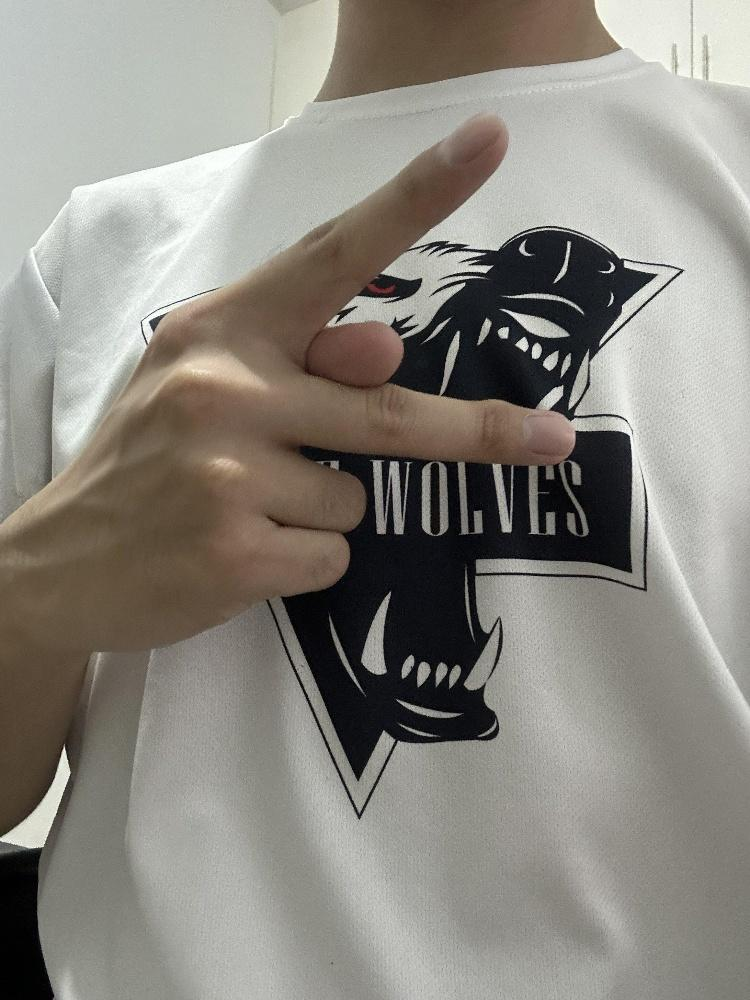k: (64, 107, 583, 658)
